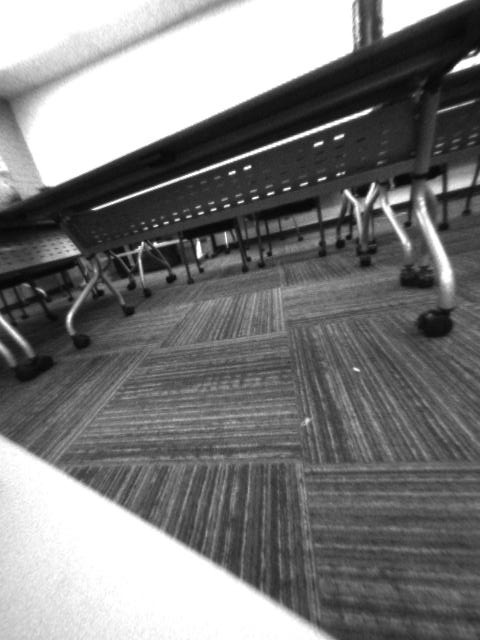can: (348, 1, 392, 52)
